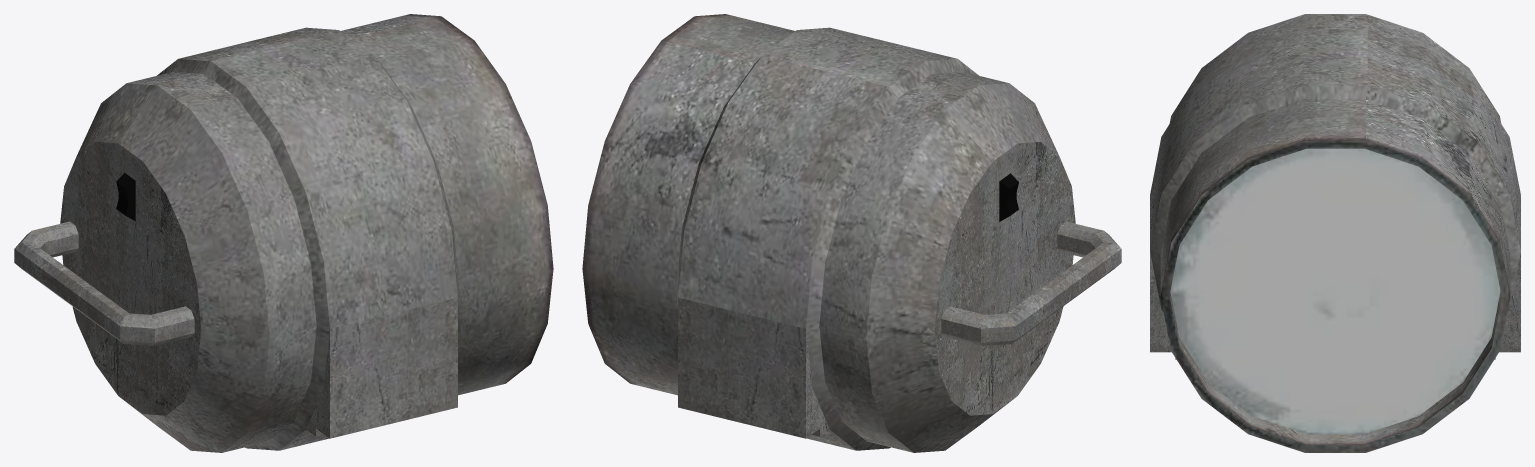
File: light_spotlight01_lamp.glb
The picture shows the model from 3 angles, left to right: view 1: azimuth 30°, elevation 25°; view 2: azimuth 150°, elevation 25°; view 3: azimuth 270°, elevation 25°; orthographic projection. The views are drawn at different scales.
Visible parts, largest first — view 1: 0_light_spotlight01a; view 2: 0_light_spotlight01a; view 3: 0_light_spotlight01a.
Part boxes in pixels (<box>): 0_light_spotlight01a: <box>14,14,553,452</box>; 0_light_spotlight01a: <box>582,14,1121,452</box>; 0_light_spotlight01a: <box>1150,14,1520,452</box>.
Size of the model in its own units: 0.5496 by 0.4858 by 0.4933.
Materials: 1 (1 with a texture image).
